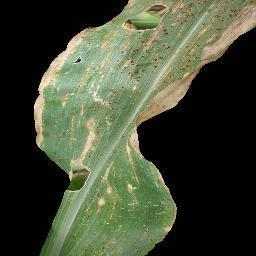Corn_Common_Rust: (30, 24, 108, 180), (108, 0, 181, 131), (84, 181, 179, 256), (182, 0, 222, 82), (108, 133, 167, 181), (222, 0, 256, 59)
